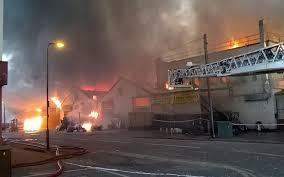fire: (24, 119, 42, 130)
smoke: (11, 2, 147, 80), (150, 2, 274, 34)
